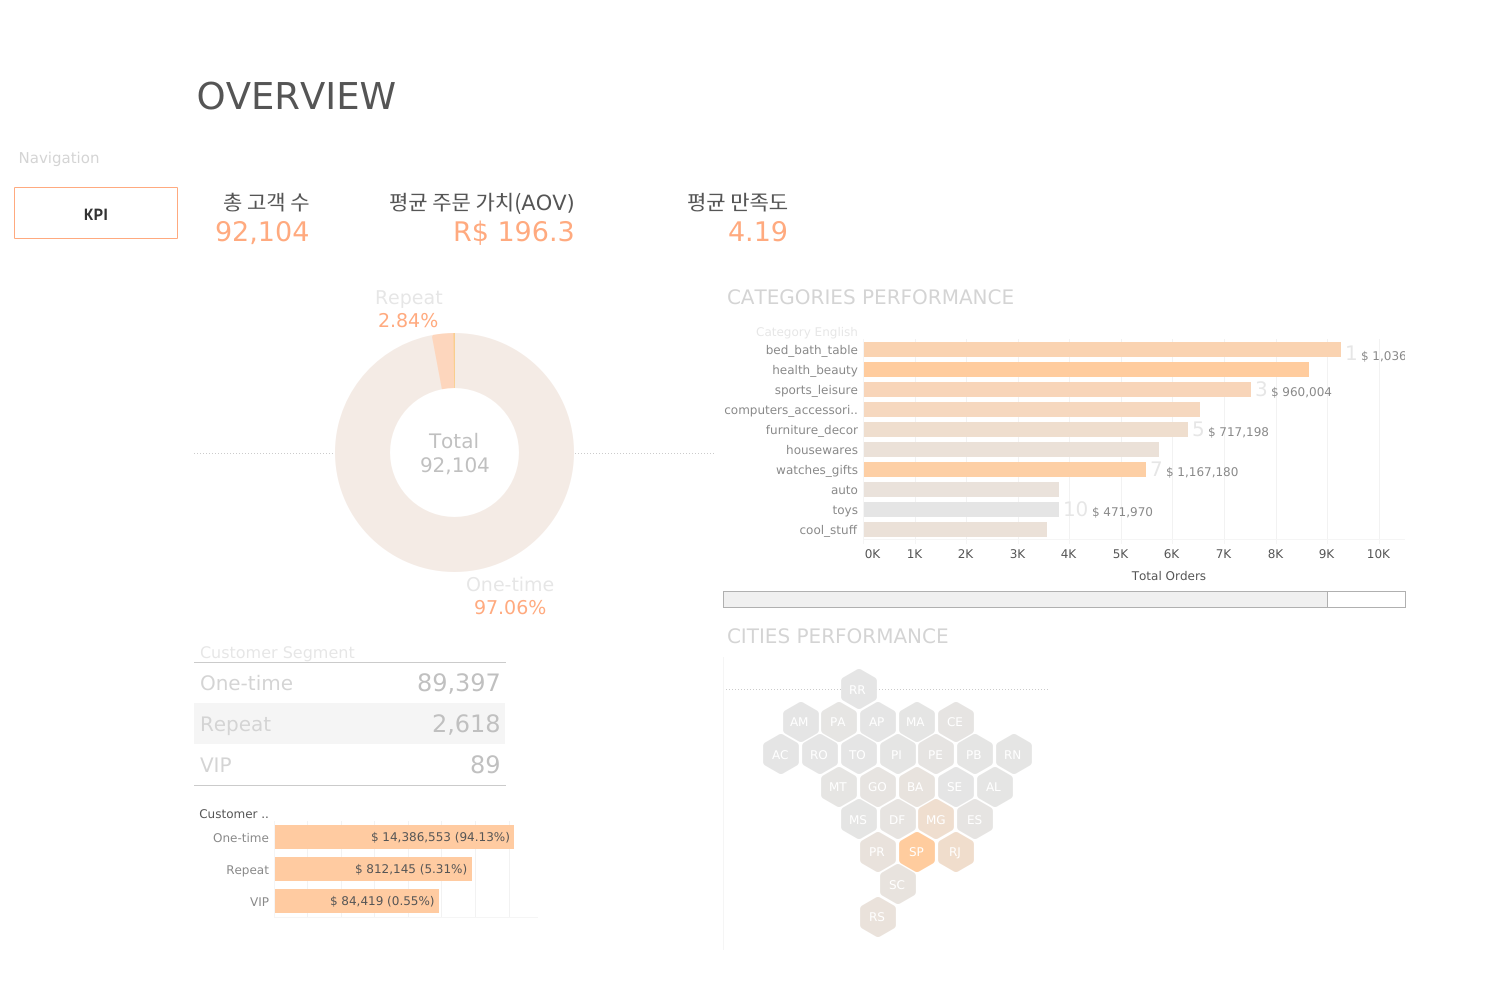

What the dashboard file says about the page in this screenshot:
{"tool":"tableau","page":{"name":"01.서론","canvas":[1500,1000],"ordinal":0},"visuals":[{"type":"text","box":[189.5,8,1219.5,175.4]},{"type":"blank","box":[1409,8,83,945]},{"type":"text","box":[16,136,108,44]},{"type":"worksheet","title":"01_KPI_총고객","mark":"Automatic","box":[189.5,183.4,185.5,91.6]},{"type":"worksheet","title":"01_KPI_AOV","mark":"Automatic","box":[375,183.4,294,91.6]},{"type":"worksheet","title":"01_KPI_평균만족도","mark":"Automatic","box":[669,183.4,740,91.6]},{"type":"dashboard-object","box":[14,187,164,52]},{"type":"worksheet","title":"01_1.Segment","mark":"Pie","rows":["Calculation_591660443134763009","Calculation_591660443134902275"],"box":[189.5,275,529.2,355]},{"type":"worksheet","title":"01_product","mark":"Automatic","rows":["category_english"],"cols":["total_orders"],"box":[718.7,275,690.3,339]},{"type":"worksheet","title":"Hexamap","mark":"Shape","rows":["y"],"cols":["x"],"box":[718.7,614,334,339]},{"type":"blank","box":[1052.7,614,356.3,339]},{"type":"worksheet","title":"01_2.Segment_count","mark":"Automatic","rows":["customer_segment"],"box":[189.5,630,529.2,167]},{"type":"worksheet","title":"01_매출기여도","mark":"Automatic","rows":["customer_segment"],"cols":["segment_gmv"],"box":[189.5,797,529.2,156]},{"type":"blank","box":[8,953,1484,39]}]}

Visuals, with their boxes in screenshot pixels (x1, y1, x2, y2), scaled from the page's 1500x1000 canvas onto the 1499x999 screenshot:
text: l=189, t=8, r=1408, b=183
blank: l=1408, t=8, r=1491, b=952
text: l=16, t=136, r=124, b=180
"01_KPI_총고객" worksheet: l=189, t=183, r=375, b=275
"01_KPI_AOV" worksheet: l=375, t=183, r=669, b=275
"01_KPI_평균만족도" worksheet: l=669, t=183, r=1408, b=275
dashboard-object: l=14, t=187, r=178, b=239
"01_1.Segment" worksheet (Pie marks): l=189, t=275, r=718, b=629
"01_product" worksheet: l=718, t=275, r=1408, b=613
"Hexamap" worksheet (Shape marks): l=718, t=613, r=1052, b=952
blank: l=1052, t=613, r=1408, b=952
"01_2.Segment_count" worksheet: l=189, t=629, r=718, b=796
"01_매출기여도" worksheet: l=189, t=796, r=718, b=952
blank: l=8, t=952, r=1491, b=991
